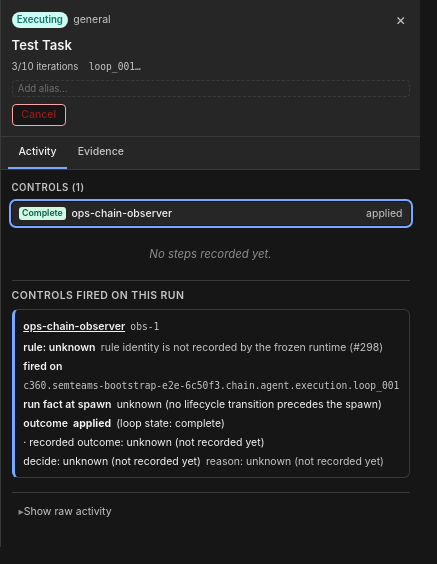
Test: TaskDetailPanel › controls (design D3) › can be focused from the keyboard, with a pressed state and the breadcrumb
Press Enter
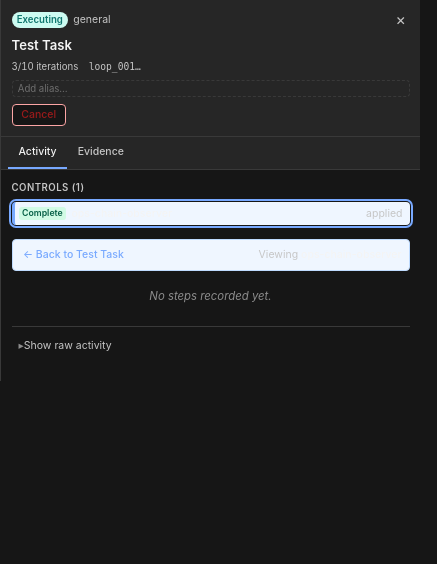
Result: the element with test id "story-controls" is gone
Click the button with test id "focus-back" at (73, 255), box [20, 245, 127, 264]
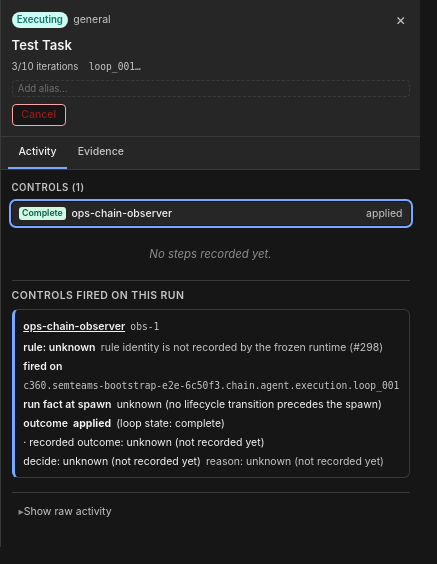
Result: the element with test id "story-controls" is shown at [12, 280, 410, 478]
